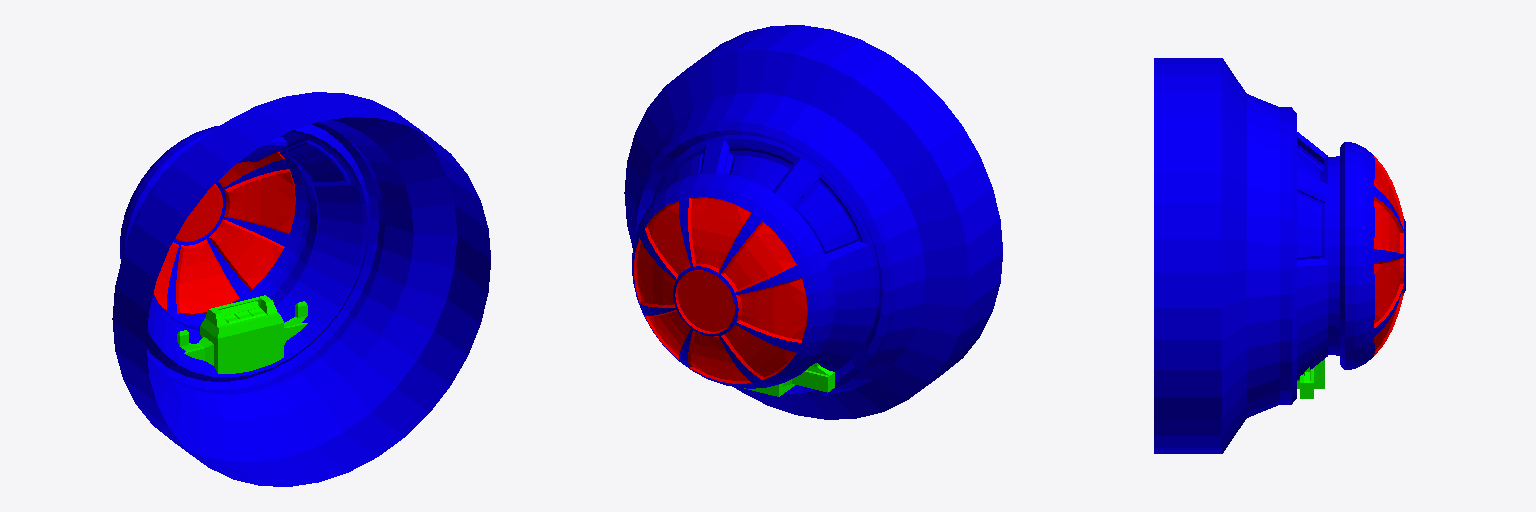
Rendered from Cockpit.obj.
3 views of the same model, side by side, from view 1: azimuth 30°, elevation 25°; view 2: azimuth 150°, elevation 25°; view 3: azimuth 270°, elevation 25° (orthographic).
Visible parts, largest first — view 1: Sphere001; view 2: Sphere001; view 3: Sphere001.
Part boxes in pixels (x1,y1,x2,y2): Sphere001: (112,92,490,486); Sphere001: (624,25,1002,419); Sphere001: (1154,58,1405,453).
Size of the model in its own units: 34.57 by 34.57 by 21.83.